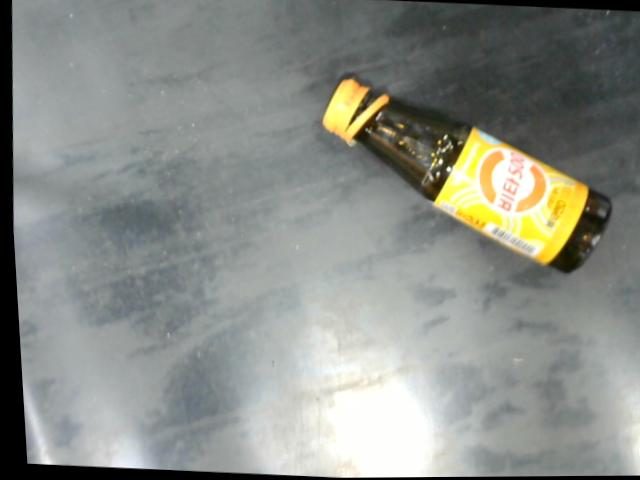glass: (310, 75, 621, 281)
